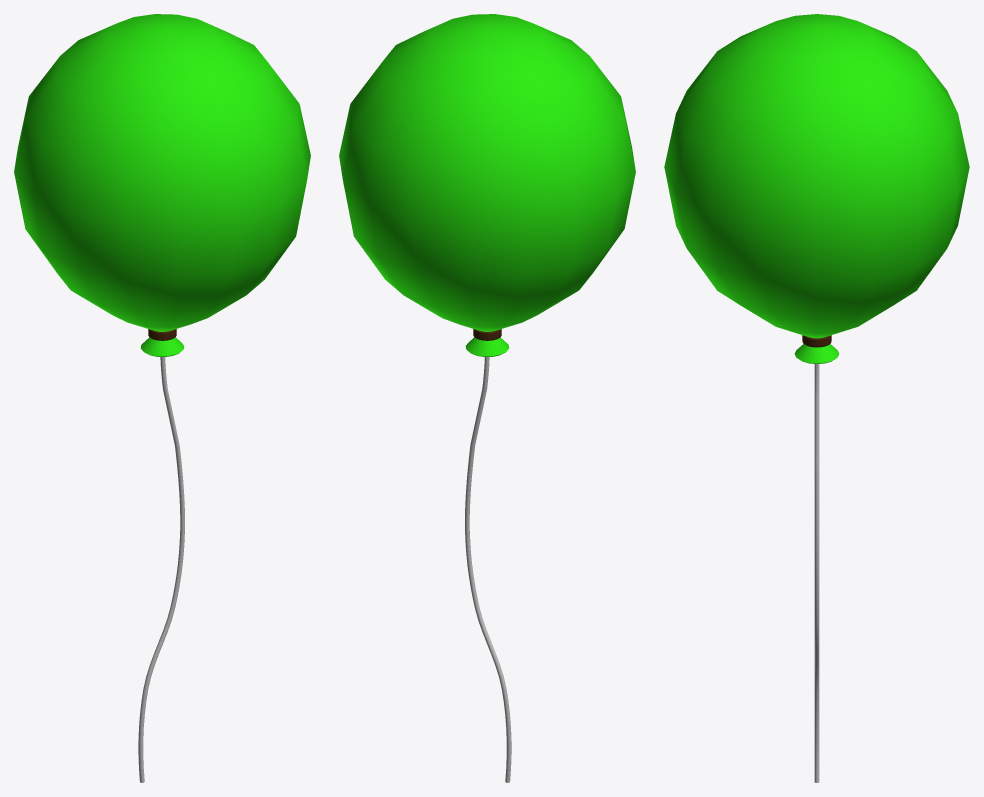
Rendered from Balloon_Green.FBX.
3 views of the same model, side by side, from view 1: azimuth 30°, elevation 25°; view 2: azimuth 150°, elevation 25°; view 3: azimuth 270°, elevation 25° (orthographic).
Parts seen in each view (by area): view 1: Sphere001; view 2: Sphere001; view 3: Sphere001.
Part boxes in pixels (<box>): Sphere001: <box>14,14,310,782</box>; Sphere001: <box>339,14,635,782</box>; Sphere001: <box>664,14,969,782</box>.
Bounding box in the file's own units: 62.15 × 172 × 62.15.
